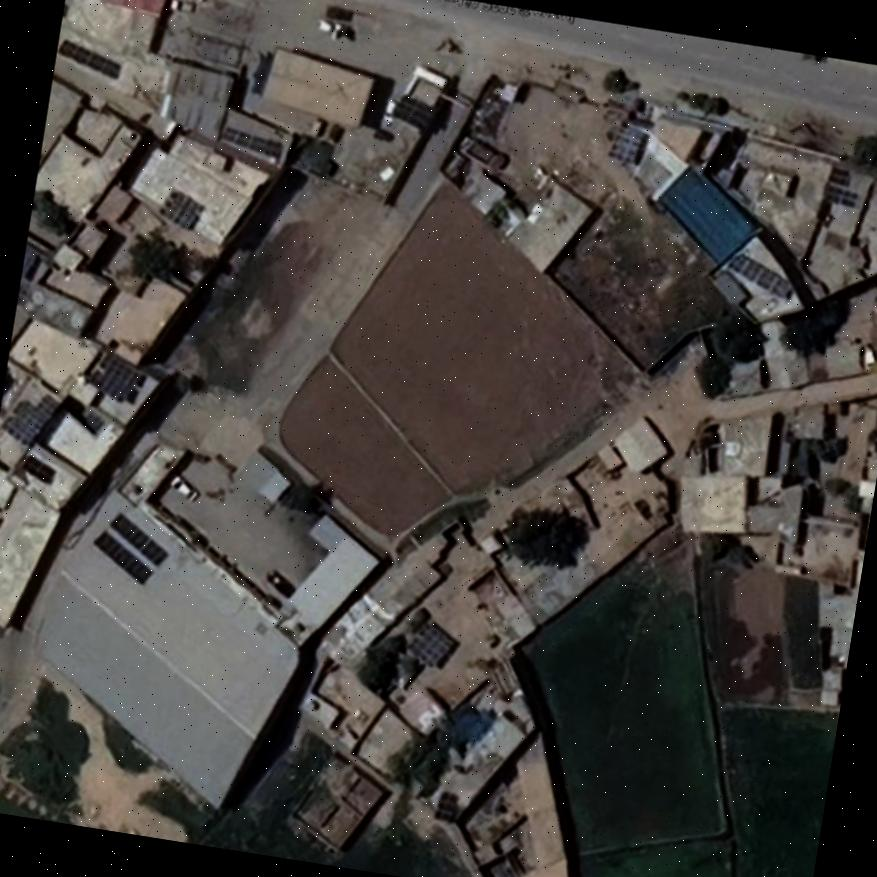Solarpanel: (92, 530, 152, 581), (0, 394, 56, 445), (110, 515, 165, 563), (730, 252, 789, 295), (57, 40, 120, 80), (88, 356, 139, 402), (407, 622, 454, 668), (219, 128, 282, 155), (162, 191, 204, 229), (605, 123, 643, 162), (392, 96, 434, 130)
